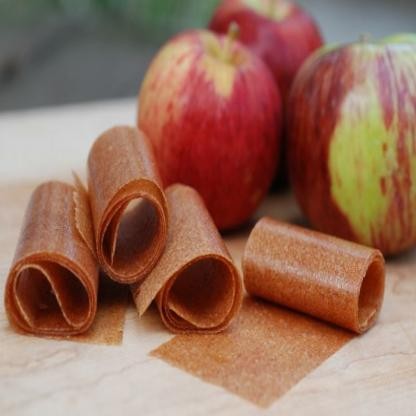apple: (124, 31, 281, 245), (202, 4, 342, 209), (297, 27, 416, 266)
